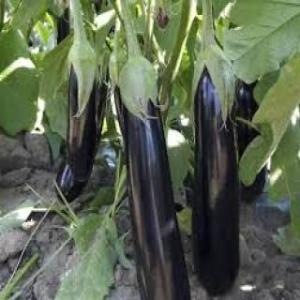eggplant: (120, 58, 188, 299), (190, 44, 238, 294), (63, 40, 95, 179)
